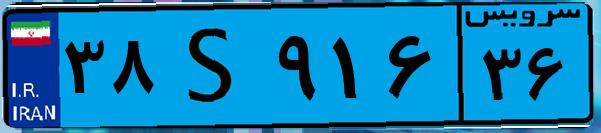1: (330, 28, 385, 110)
3: (57, 26, 110, 100), (475, 38, 525, 113)
6: (385, 28, 445, 110), (525, 38, 570, 115)
8: (110, 28, 158, 98)
9: (270, 28, 330, 110)
S: (158, 12, 270, 120)
